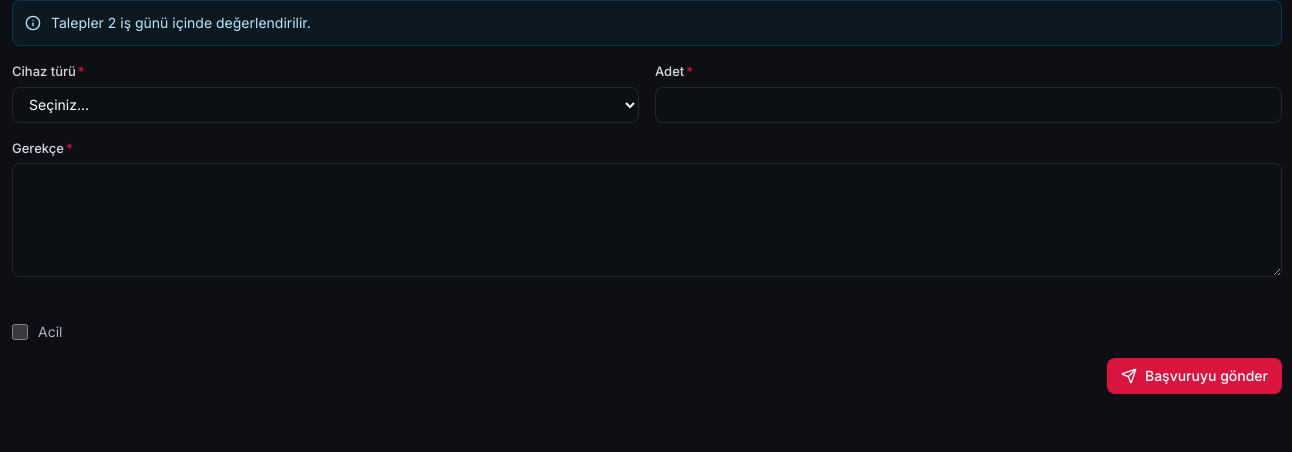
DynamicForm › blocks submission and shows required errors when empty
Click the button "Başvuruyu gönder" at [1194, 376], box [1107,358,1282,394]
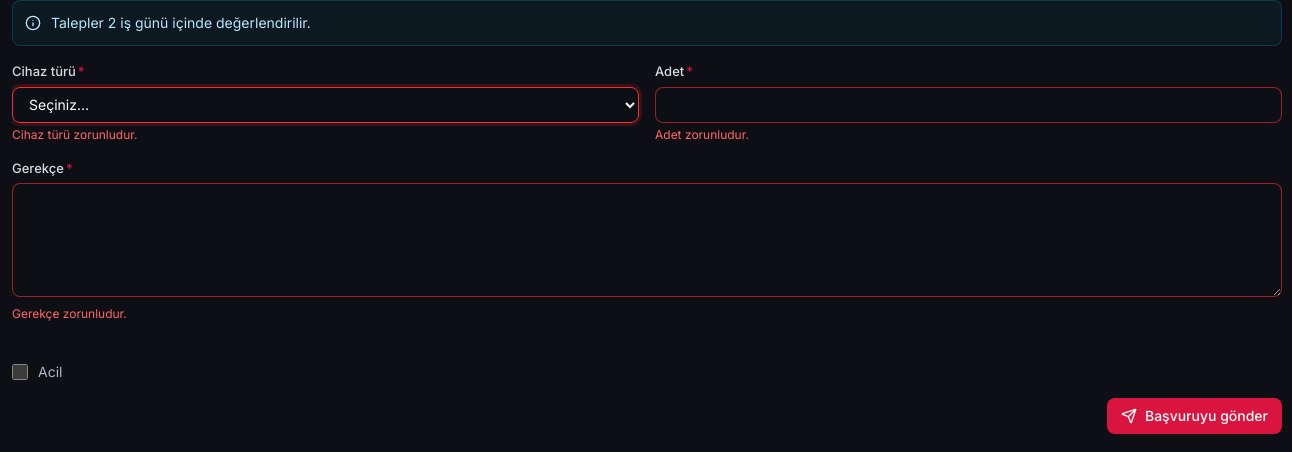
Expected: the text "Gerekçe zorunludur." is shown, [12,306,127,321]
